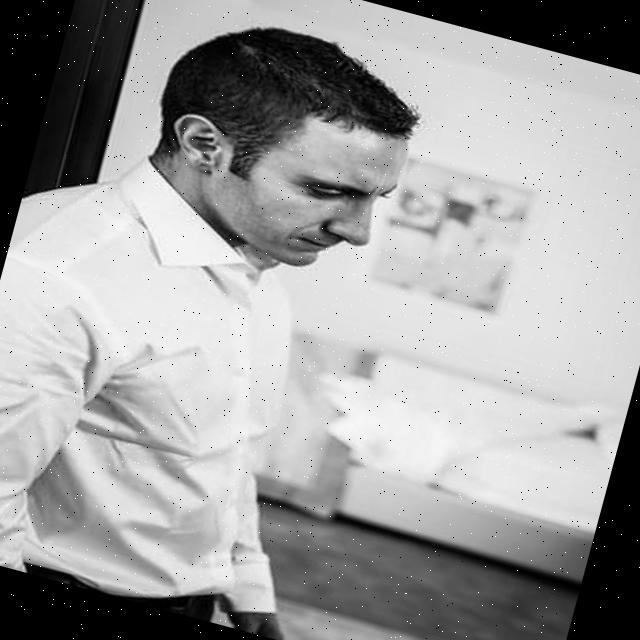Sadness: (239, 102, 412, 286)
